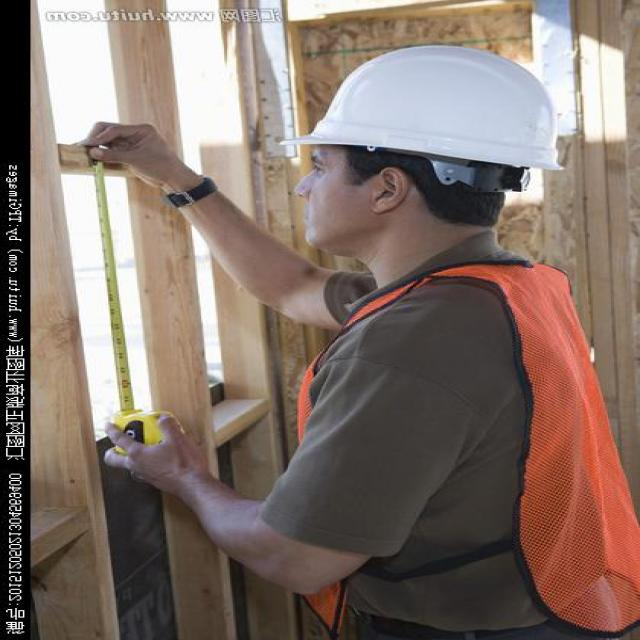Reflective-Jacket: (241, 250, 640, 640)
Safety-Helmet: (277, 41, 570, 178)
